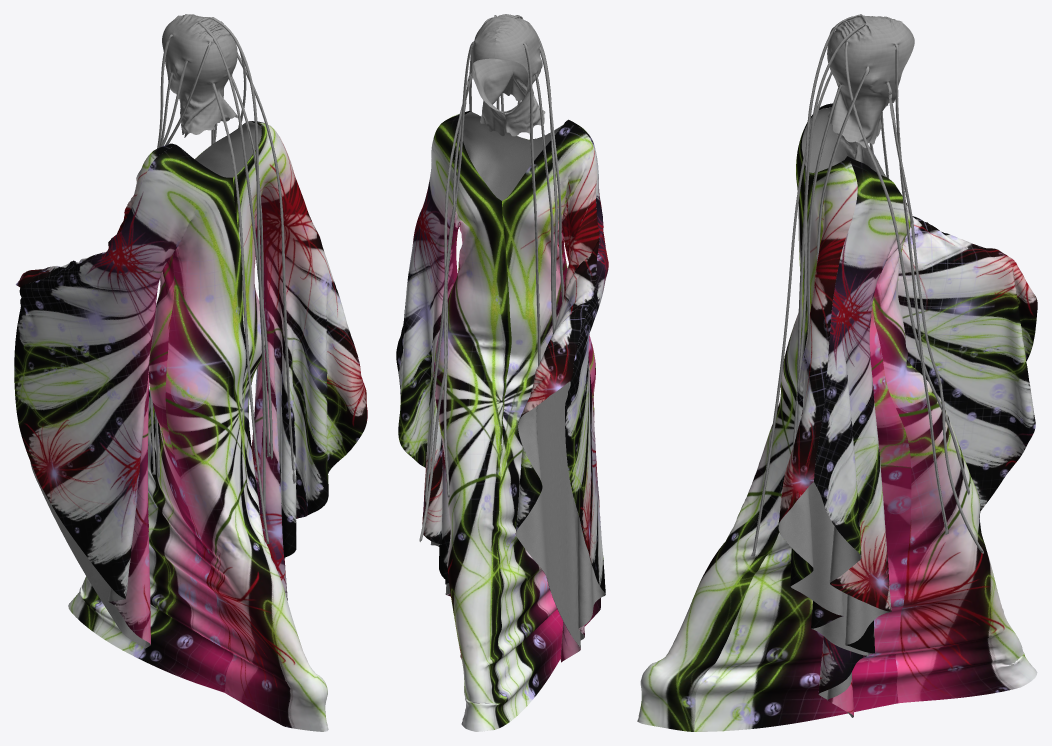
Rendered from crfw13.glb.
3 views of the same model, side by side, from view 1: azimuth 30°, elevation 25°; view 2: azimuth 150°, elevation 25°; view 3: azimuth 270°, elevation 25° (orthographic). The views are drawn at different scales.
Visible parts, largest first — view 1: VESTIDO CRFW 13; view 2: VESTIDO CRFW 13; view 3: VESTIDO CRFW 13.
Boxes of the visible parts, box(x1,y1,x2,y2) form: VESTIDO CRFW 13: box(14, 14, 367, 731); VESTIDO CRFW 13: box(396, 14, 608, 731); VESTIDO CRFW 13: box(637, 14, 1037, 731).
Size of the model in its own units: 0.5223 by 1.25 by 0.6427.
Materials: 10 (10 with a texture image).
